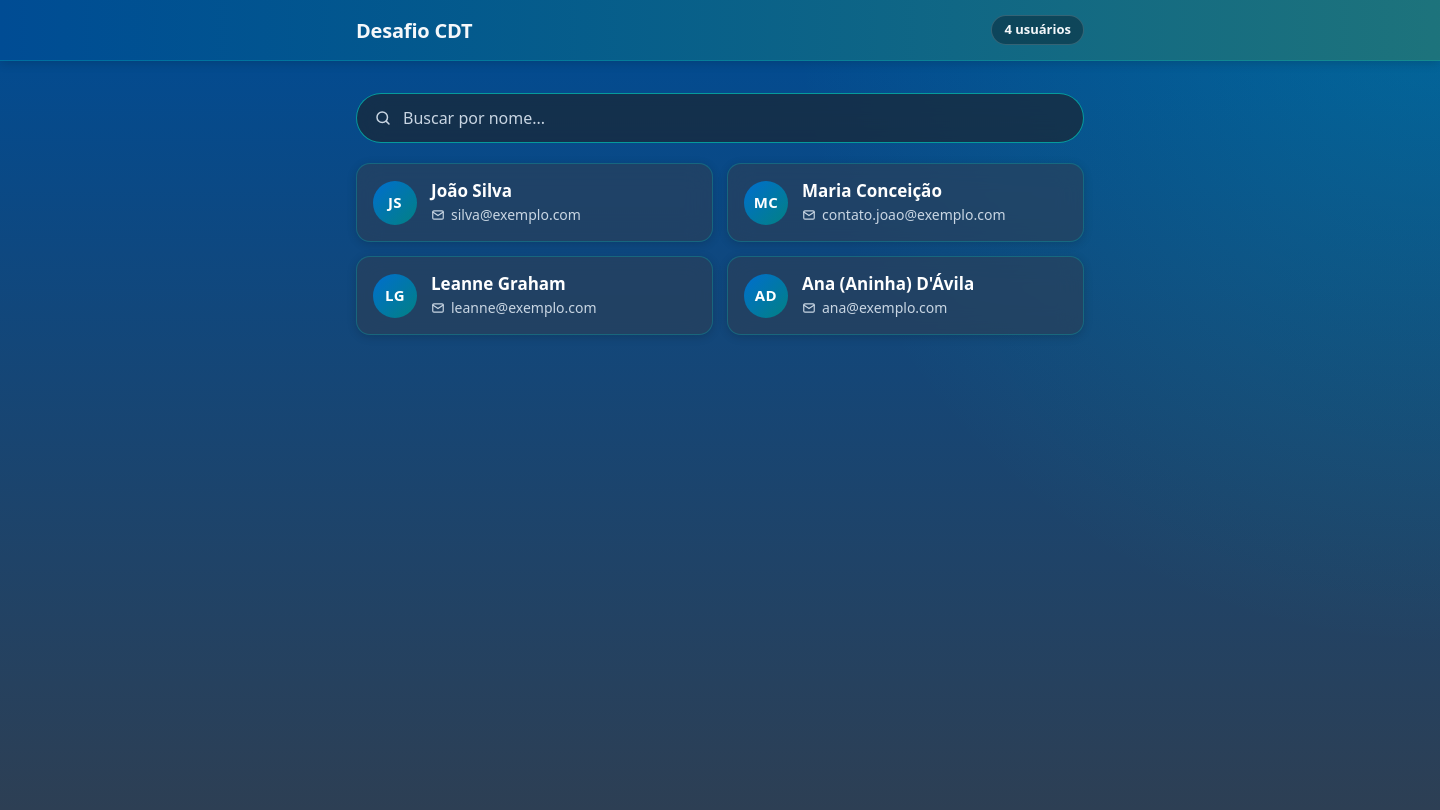
Test: App › nenhum resultado › não quebra nem vira curinga com ".*"
The width and height of the screenshot is (1440, 810).
Expected: the list is shown, 356,163 -> 1084,335
In the search field labelled "Buscar por nome": (720, 118) 356,93 -> 1084,143, type ".*"
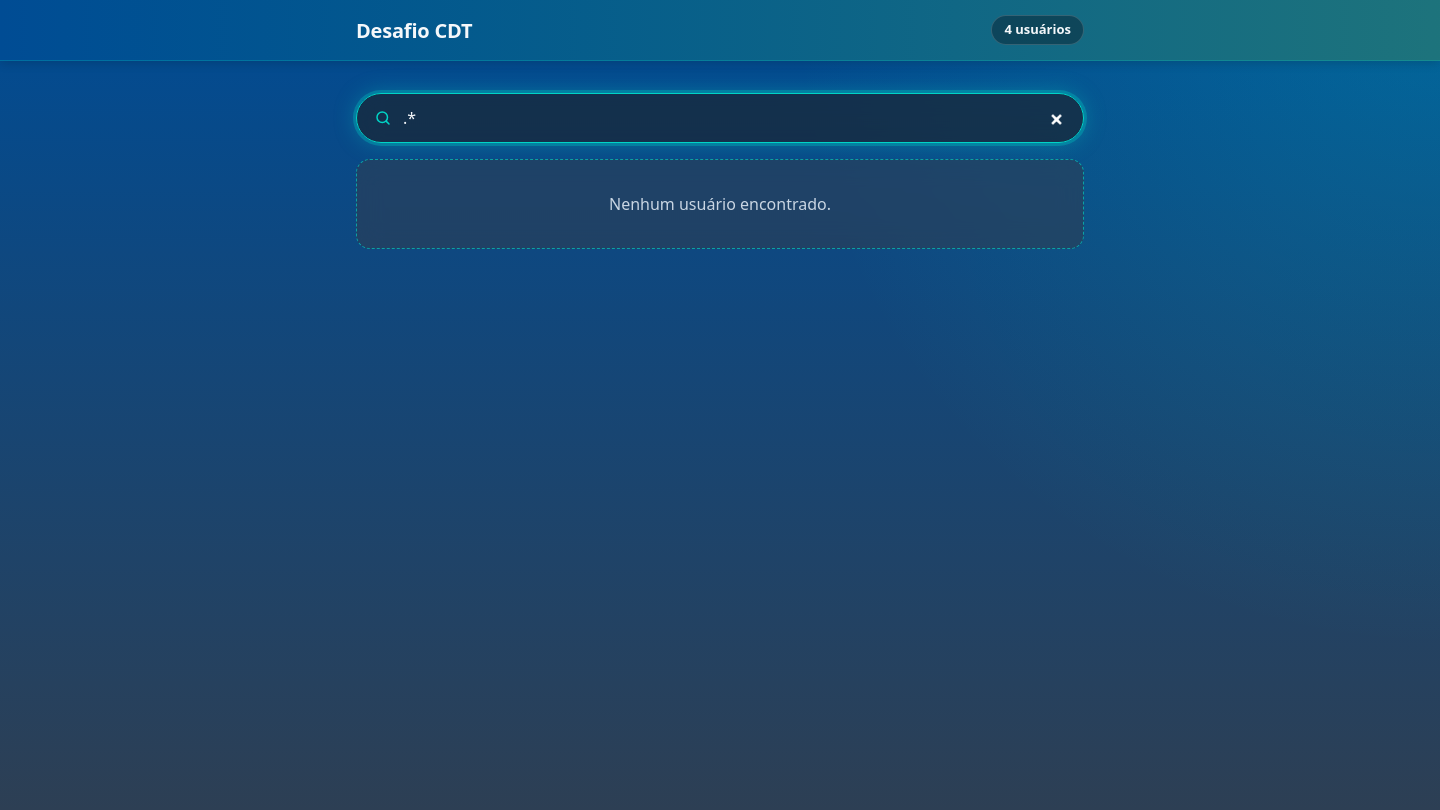
Now the text "Nenhum usuário encontrado." is shown, box 356,159 -> 1084,249
